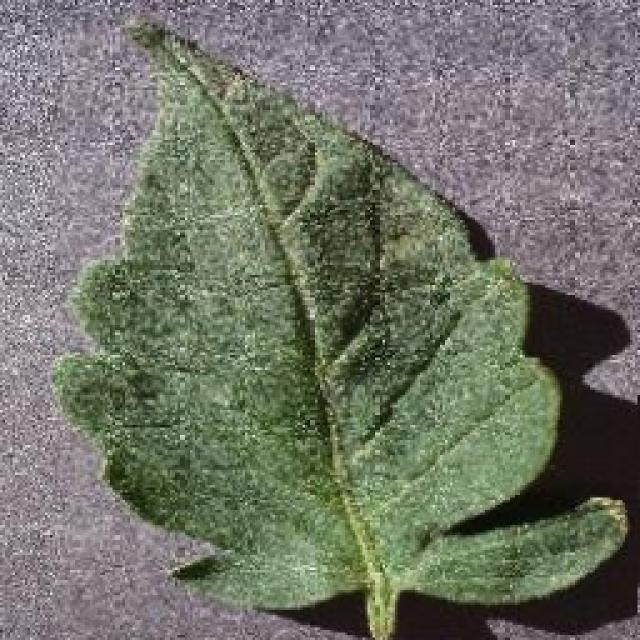Healthy: (52, 5, 638, 640)
